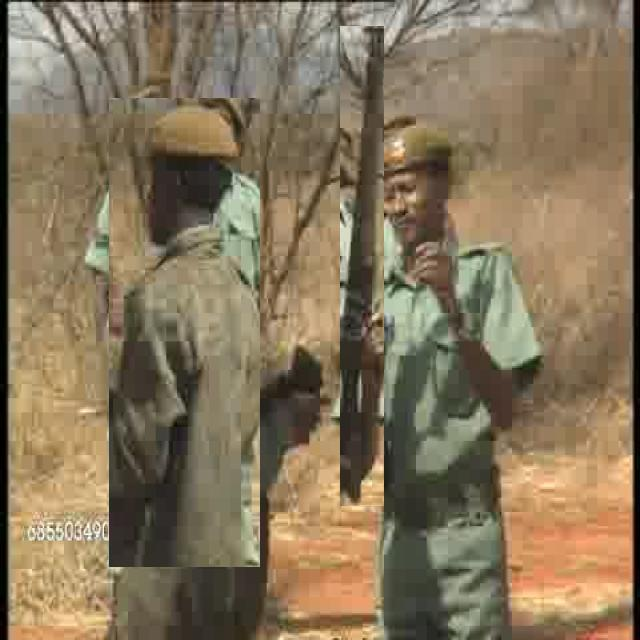poacher: (344, 104, 556, 596), (109, 98, 260, 567)
weapon: (340, 26, 384, 506)
